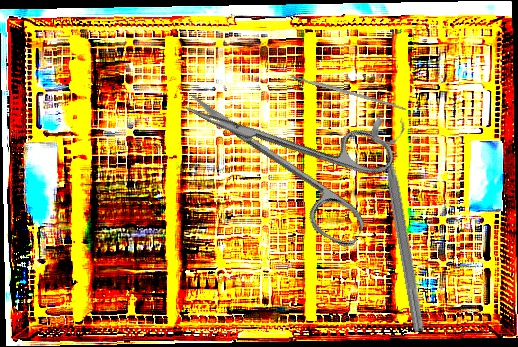Fixation Ring: (369, 112, 443, 334)
Iris Scissors: (164, 49, 405, 251)
Scalpel Handle: (289, 73, 408, 112)
